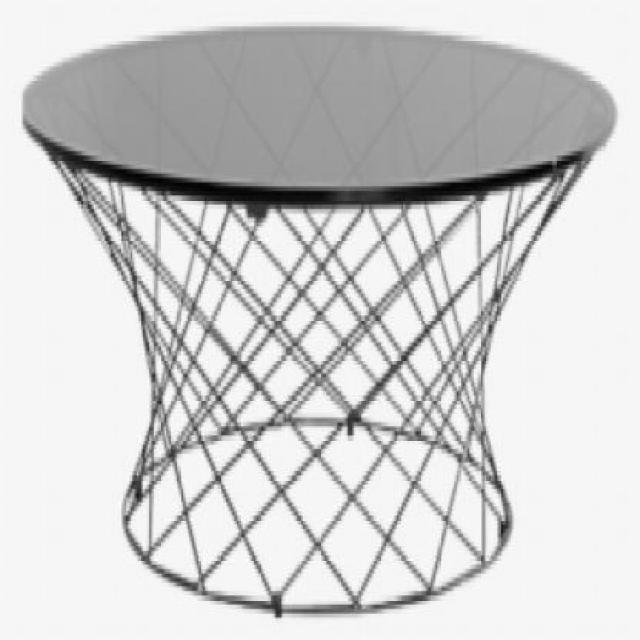table: (17, 13, 617, 609)
